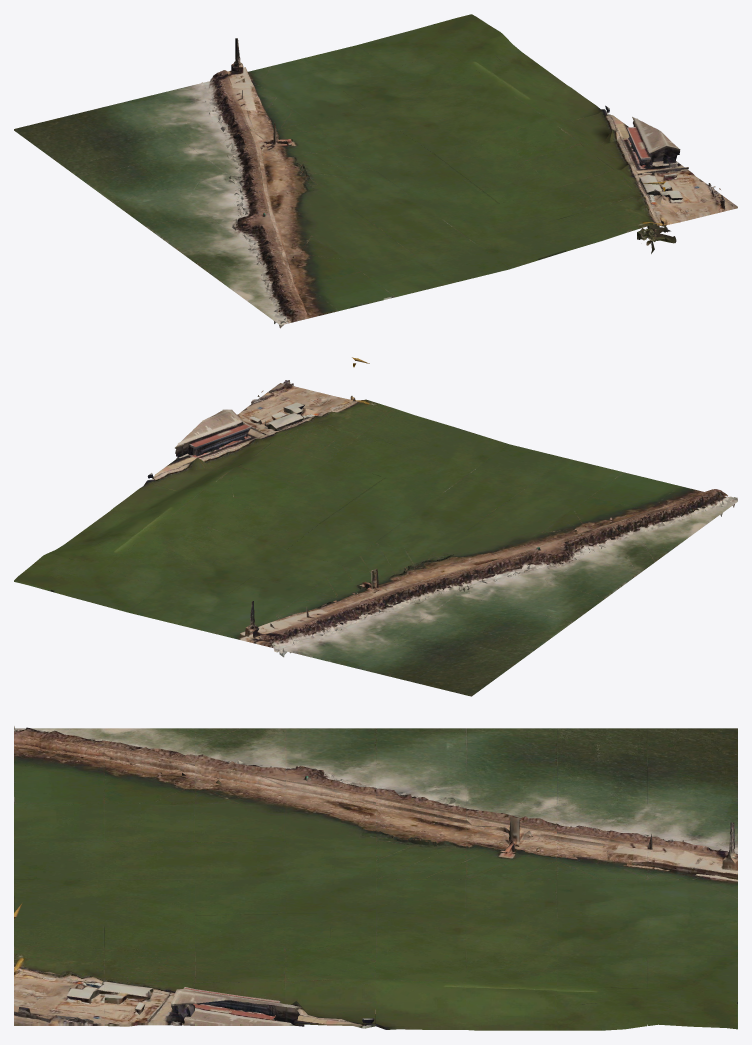
The model's file is parque_esculturas_leste.glb.
3 renders of one model, top to bottom at view 1: azimuth 30°, elevation 25°; view 2: azimuth 150°, elevation 25°; view 3: azimuth 270°, elevation 25°, orthographic. The views are drawn at different scales.
Visible parts, largest first — view 1: parque_esculturas_leste; view 2: parque_esculturas_leste; view 3: parque_esculturas_leste.
Part boxes in pixels (x1,y1,x2,y2): parque_esculturas_leste: (14, 14, 737, 328); parque_esculturas_leste: (14, 357, 737, 696); parque_esculturas_leste: (14, 726, 737, 1030).
Bounding box in the file's own units: 306 × 49.52 × 307.
1 material, 1 textured.
